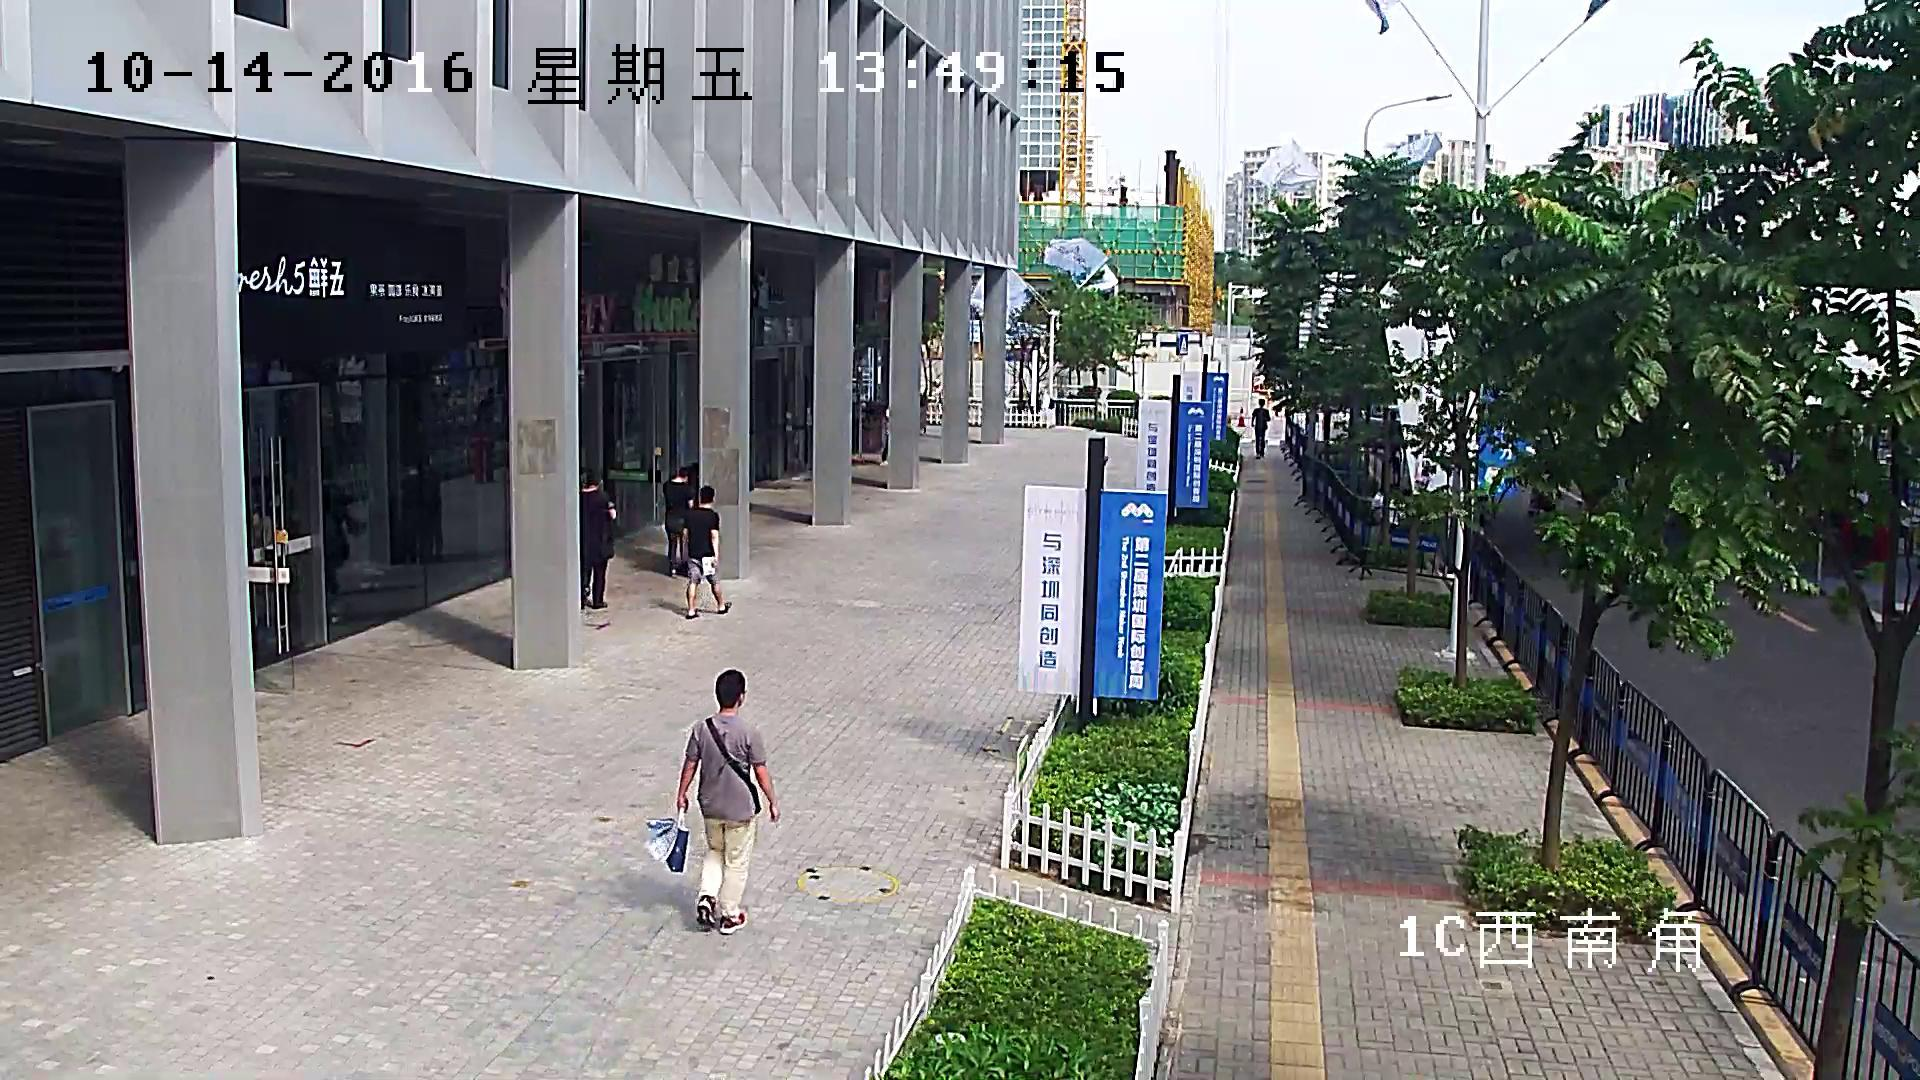person: (641, 667, 780, 934), (676, 667, 780, 934), (682, 485, 732, 619), (322, 459, 359, 594), (581, 471, 613, 608), (662, 467, 694, 575), (412, 460, 443, 561), (1251, 398, 1270, 458)
